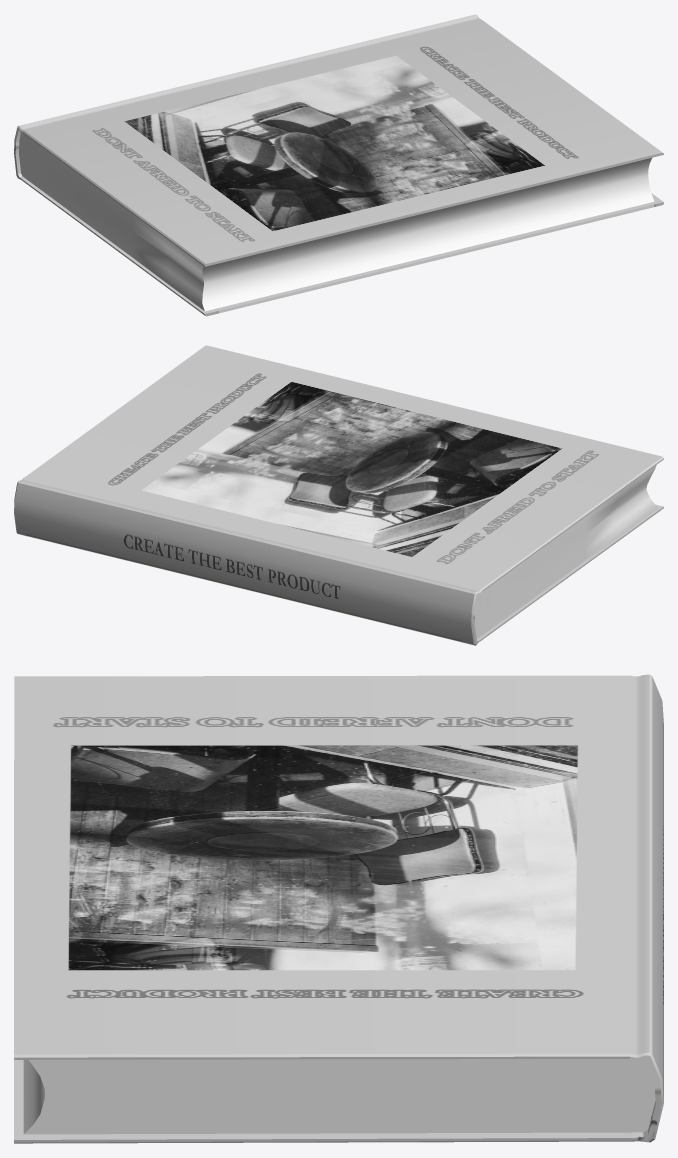
File: SM_Book_01.fbx
The picture shows the model from 3 angles, top to bottom: view 1: azimuth 30°, elevation 25°; view 2: azimuth 150°, elevation 25°; view 3: azimuth 270°, elevation 25°; orthographic projection. The views are drawn at different scales.
Parts seen in each view (by area): view 1: SM_Book_01; view 2: SM_Book_01; view 3: SM_Book_01.
Boxes of the visible parts, x1,y1,x2,y2 form: SM_Book_01: (14,14,663,316); SM_Book_01: (14,345,663,645); SM_Book_01: (14,674,663,1143).
Bounding box in the file's own units: 25.47 × 18.41 × 2.84.
Materials: 1 (1 with a texture image).
